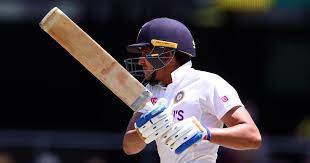bottom left: (49, 4, 61, 16)
bottom right: (32, 20, 45, 33)
top left: (145, 85, 159, 99)
top right: (130, 108, 139, 117)
